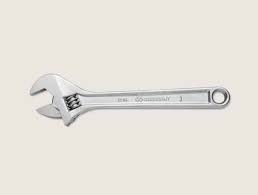Wrench: (27, 66, 241, 131)
